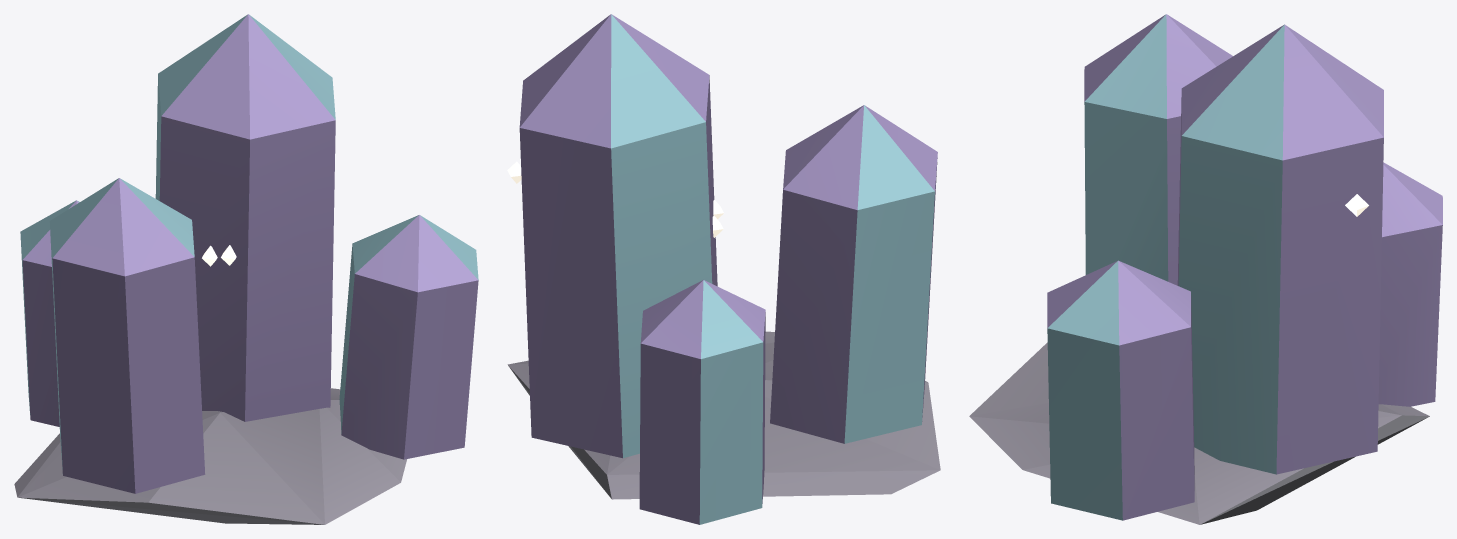
Rendered from ore_crystal.glb.
3 renders of one model, left to right at view 1: azimuth 30°, elevation 25°; view 2: azimuth 150°, elevation 25°; view 3: azimuth 270°, elevation 25°, orthographic. The views are drawn at different scales.
Size of the model in its own units: 0.26 by 0.25 by 0.23.
